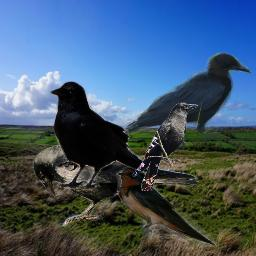Crow: (33, 143, 200, 227), (111, 52, 251, 151), (47, 80, 157, 190), (132, 102, 198, 191)
Swallow: (115, 166, 217, 247)
